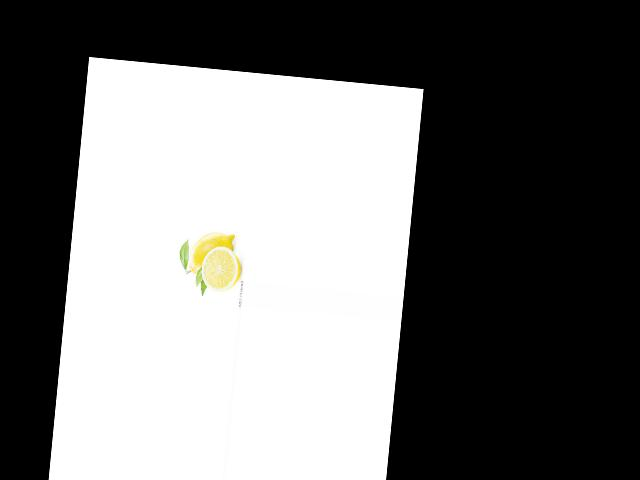lemon: (185, 221, 237, 280)
